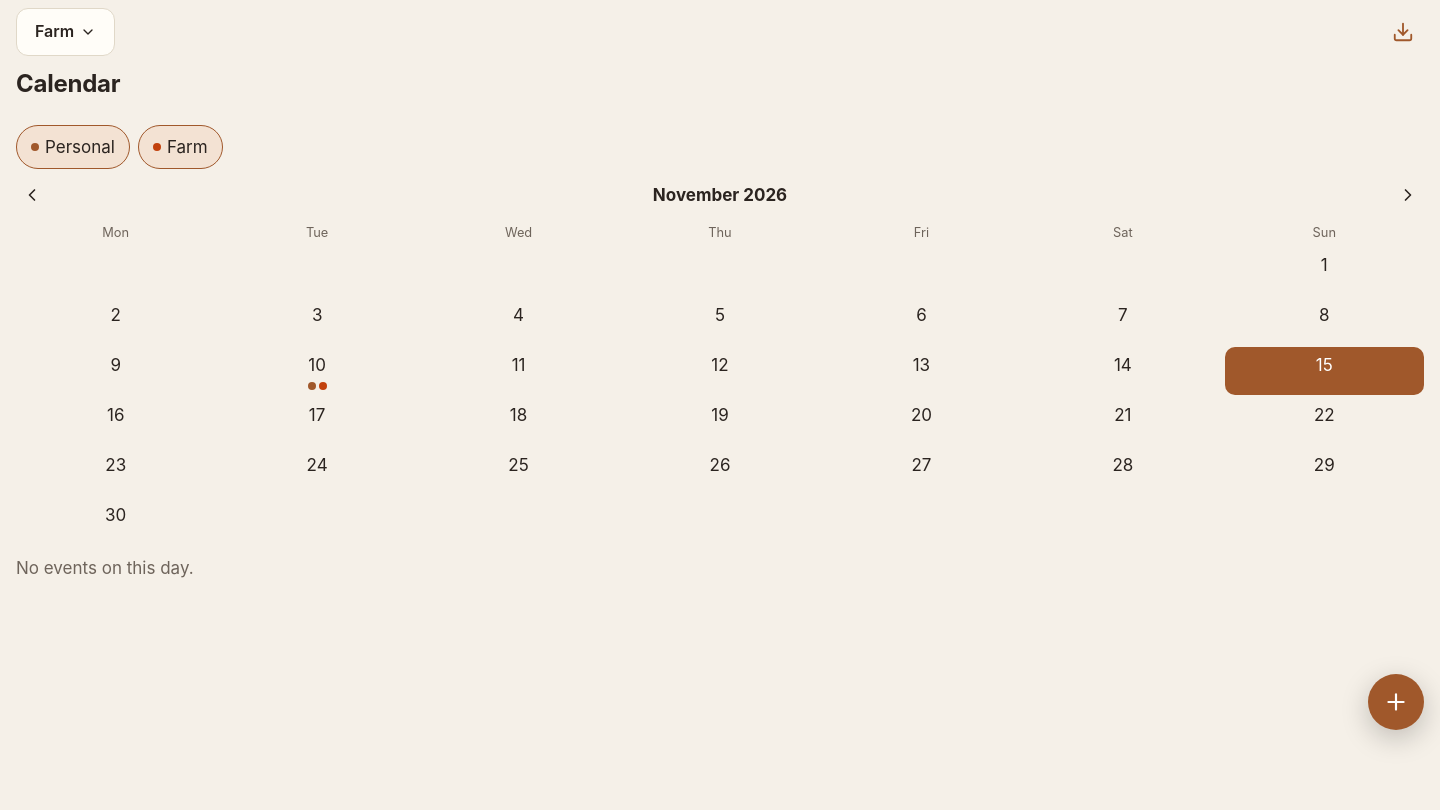
Test: CalendarPage › overlays personal and active team events; pending teams are not a layer
Step 1. Click the button named "2026-11-10" → (317,371), box [217,347,417,395]
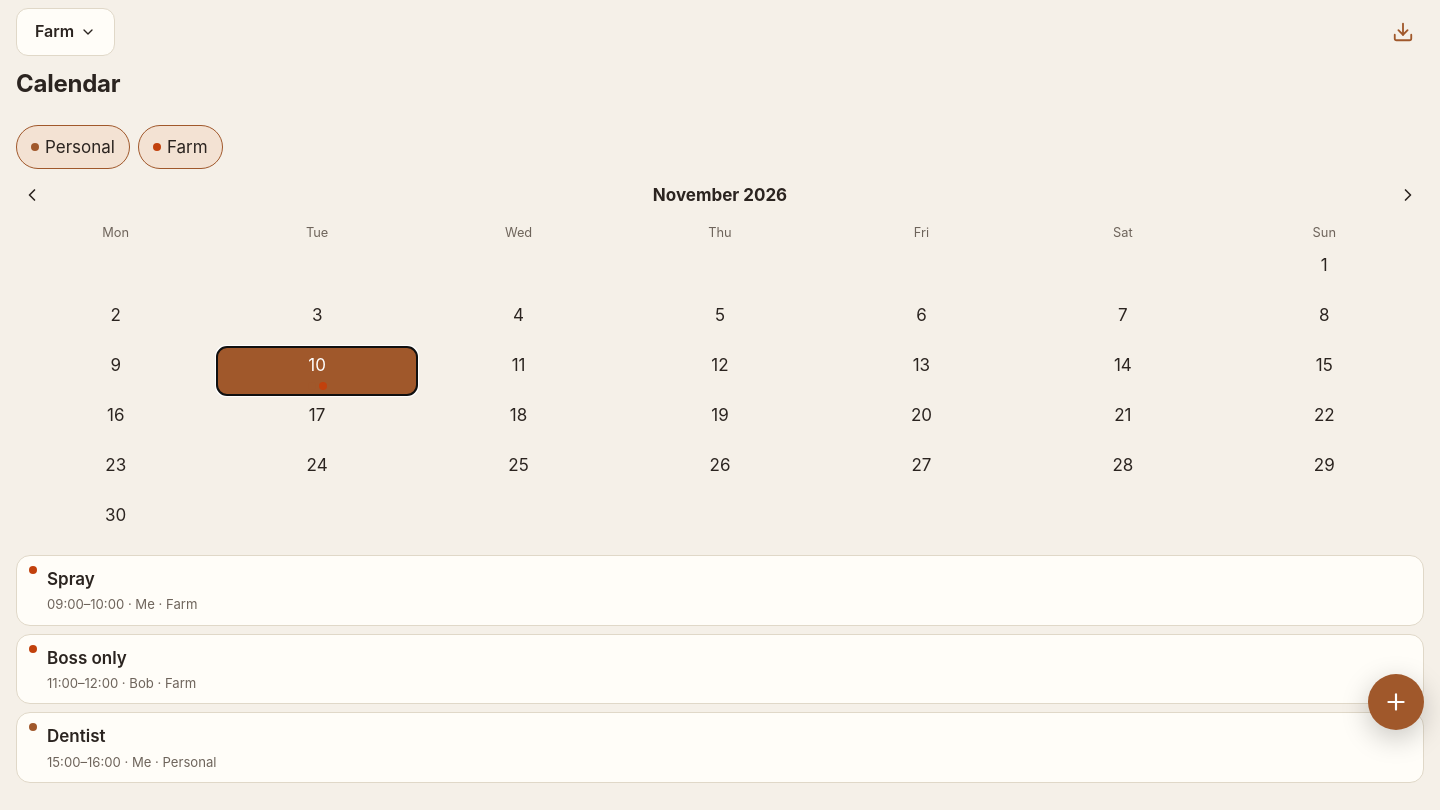
Expected: the list named "Events" shows "Bob", [16,634,1424,704]
